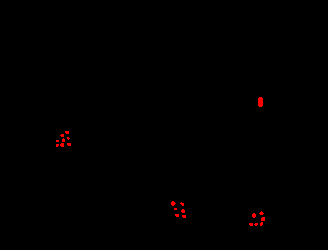Target: (258, 97, 263, 107), (171, 201, 176, 206), (259, 211, 264, 215), (252, 213, 256, 218), (60, 143, 64, 147), (180, 202, 184, 206), (181, 209, 185, 213), (261, 217, 265, 221), (65, 131, 69, 134), (60, 134, 64, 137), (62, 138, 65, 142), (67, 143, 71, 146), (175, 214, 179, 217), (182, 215, 186, 218), (260, 222, 263, 226), (249, 223, 253, 226), (254, 223, 258, 226), (67, 137, 70, 140), (56, 144, 59, 147), (56, 140, 59, 142), (174, 208, 177, 210)
